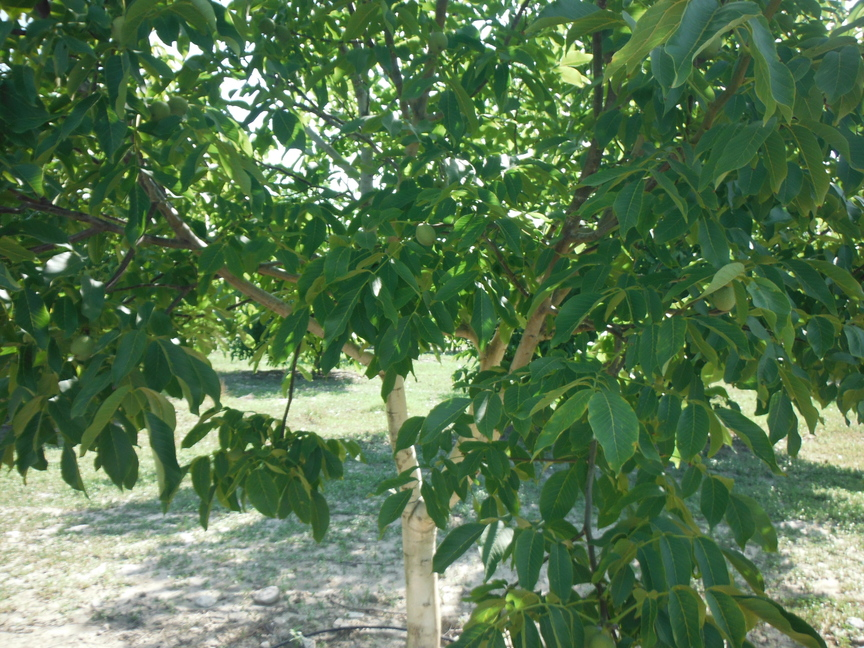walnut: (582, 621, 625, 648), (691, 32, 726, 65), (104, 12, 138, 45), (410, 217, 443, 251), (709, 280, 740, 315), (570, 617, 604, 648), (67, 331, 99, 363), (219, 441, 249, 475), (411, 261, 438, 298), (422, 26, 452, 57), (144, 92, 174, 122), (166, 92, 194, 116), (271, 21, 297, 46), (266, 440, 292, 465), (256, 11, 280, 36), (428, 172, 450, 193)
